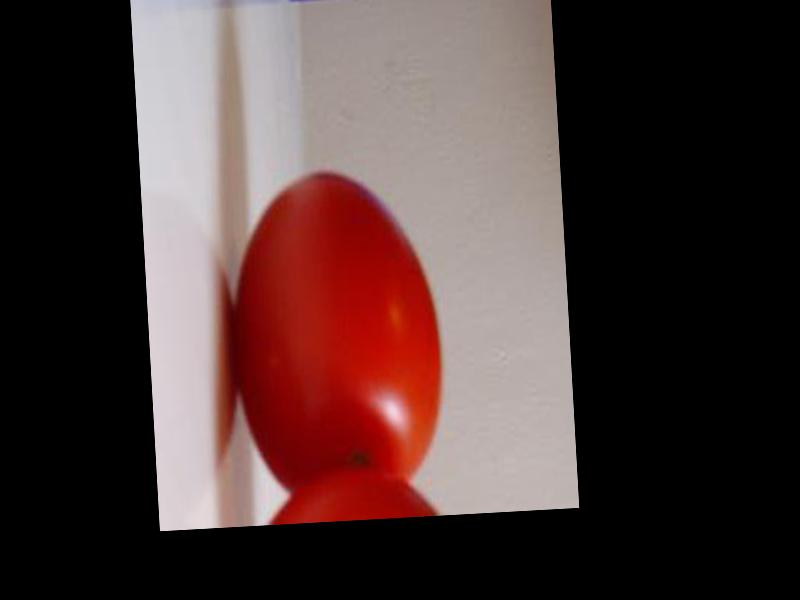Tomato: (223, 168, 446, 491)
